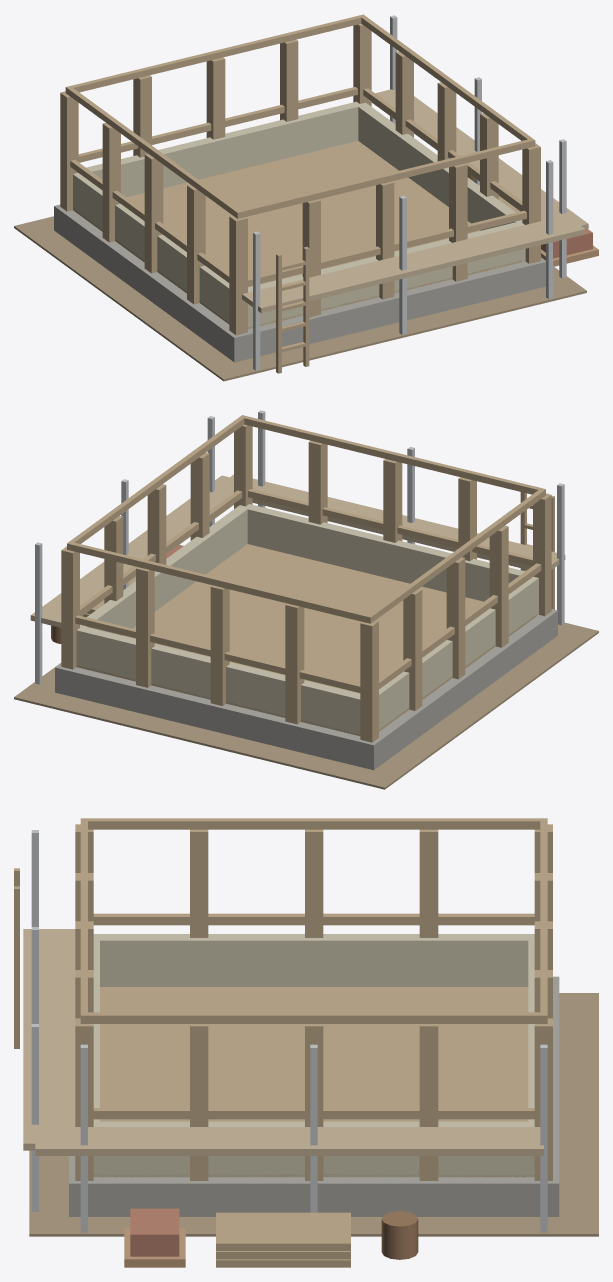
File: nursery_barn_site_5.glb
3 renders of one model, top to bottom at view 1: azimuth 30°, elevation 25°; view 2: azimuth 150°, elevation 25°; view 3: azimuth 270°, elevation 25°, orthographic. The views are drawn at different scales.
Visible parts, largest first — view 1: body; view 2: body; view 3: body.
Part boxes in pixels (left/top/right/bottom): body: left=14, top=14, right=598, bottom=381; body: left=14, top=410, right=598, bottom=789; body: left=14, top=818, right=598, bottom=1267.
Bounding box in the file's own units: 2.1 × 0.718 × 1.91.
